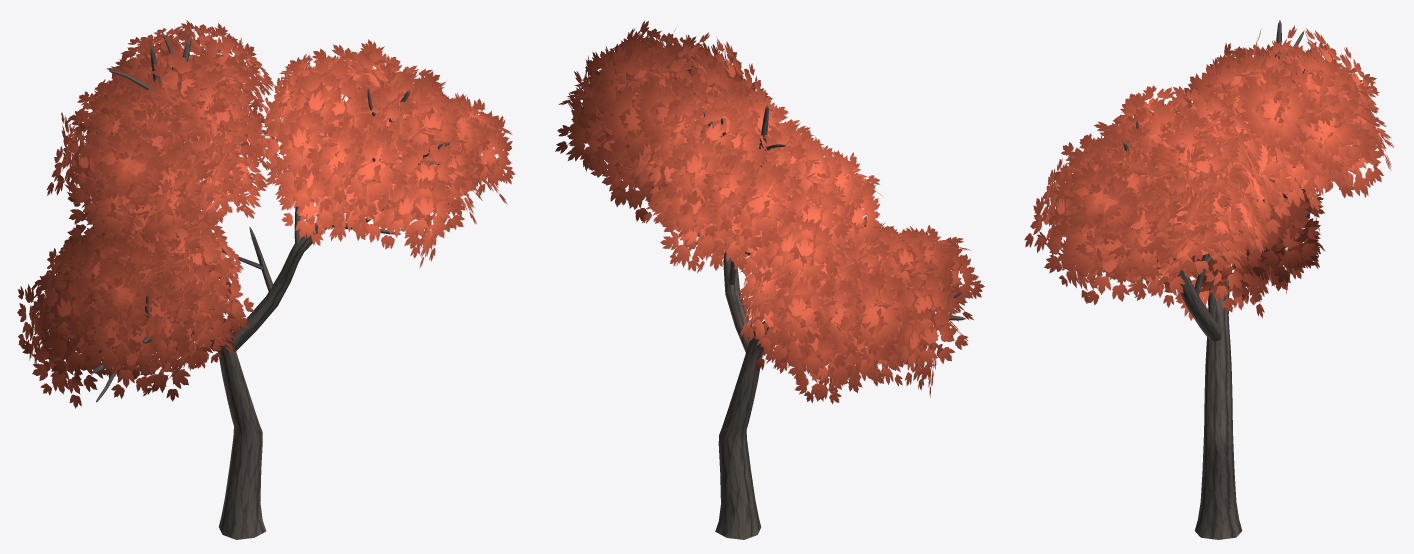
Rendered from quaternius-ultimate-stylized-nature-maple-tree-5.glb.
3 views of the same model, side by side, from view 1: azimuth 30°, elevation 25°; view 2: azimuth 150°, elevation 25°; view 3: azimuth 270°, elevation 25° (orthographic). The views are drawn at different scales.
Parts seen in each view (by area): view 1: MapleTree_5; view 2: MapleTree_5; view 3: MapleTree_5.
Boxes of the visible parts, <box> form: MapleTree_5: <box>17,20,515,539</box>; MapleTree_5: <box>555,20,984,539</box>; MapleTree_5: <box>1024,20,1394,539</box>.
Size of the model in its own units: 7.01 by 7.28 by 5.08.
2 materials, 2 textured.
